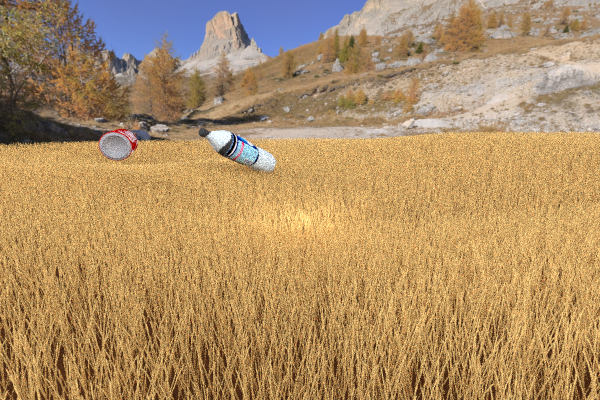Plastic Bottle: (198, 127, 276, 173), (98, 128, 137, 160)
